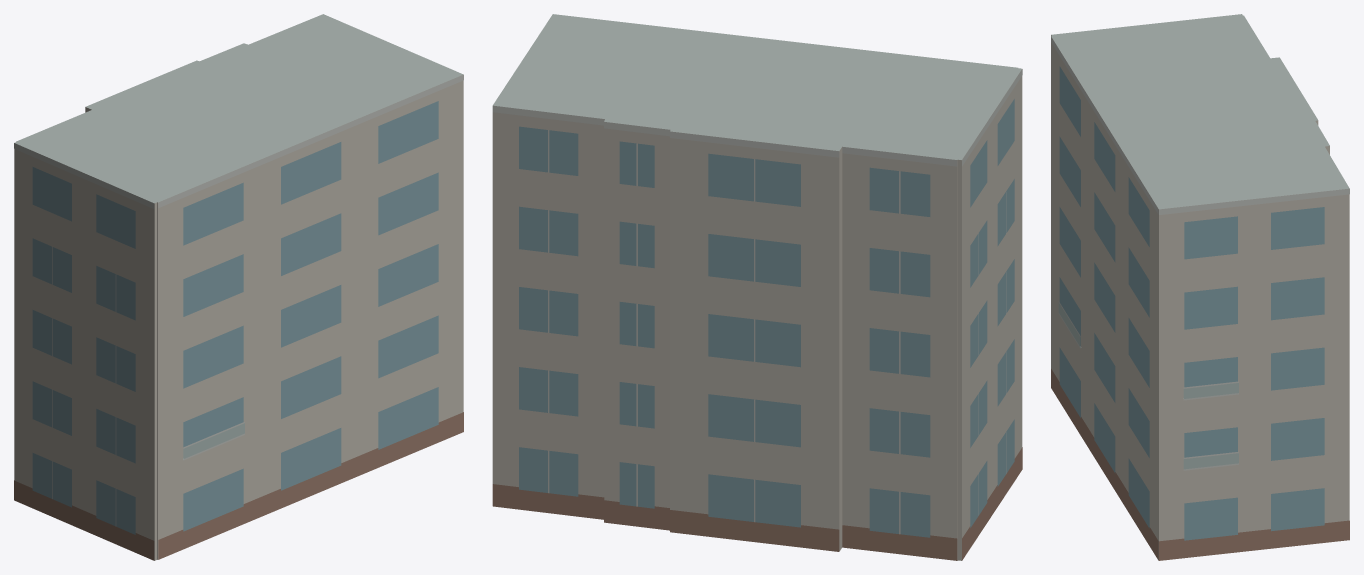
Rendered from survey-upis-32650721.glb.
The picture shows the model from 3 angles, left to right: view 1: azimuth 30°, elevation 25°; view 2: azimuth 150°, elevation 25°; view 3: azimuth 270°, elevation 25°; orthographic projection. The views are drawn at different scales.
Visible parts, largest first — view 1: survey-upis-32650721.tmp; view 2: survey-upis-32650721.tmp; view 3: survey-upis-32650721.tmp.
Boxes of the visible parts, x1,y1,x2,y2 form: survey-upis-32650721.tmp: (14, 14, 463, 560); survey-upis-32650721.tmp: (492, 14, 1022, 560); survey-upis-32650721.tmp: (1051, 14, 1349, 560).
Bounding box in the file's own units: 17.78 × 14.9 × 11.49.
